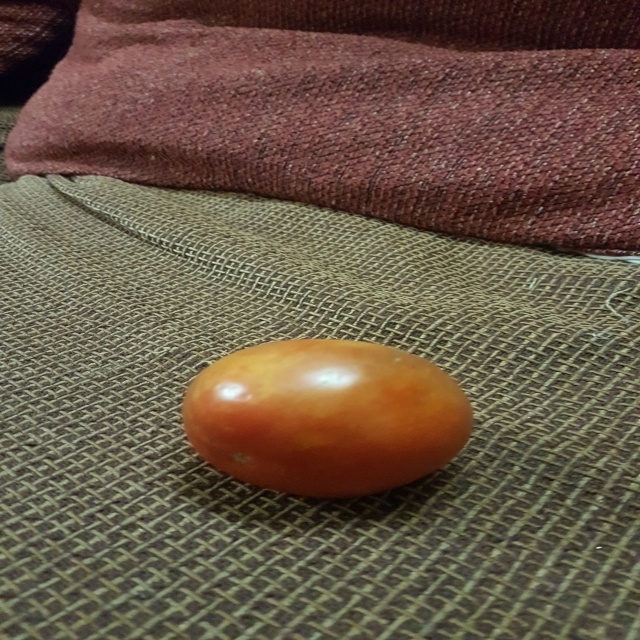tomato: (174, 329, 483, 509)
